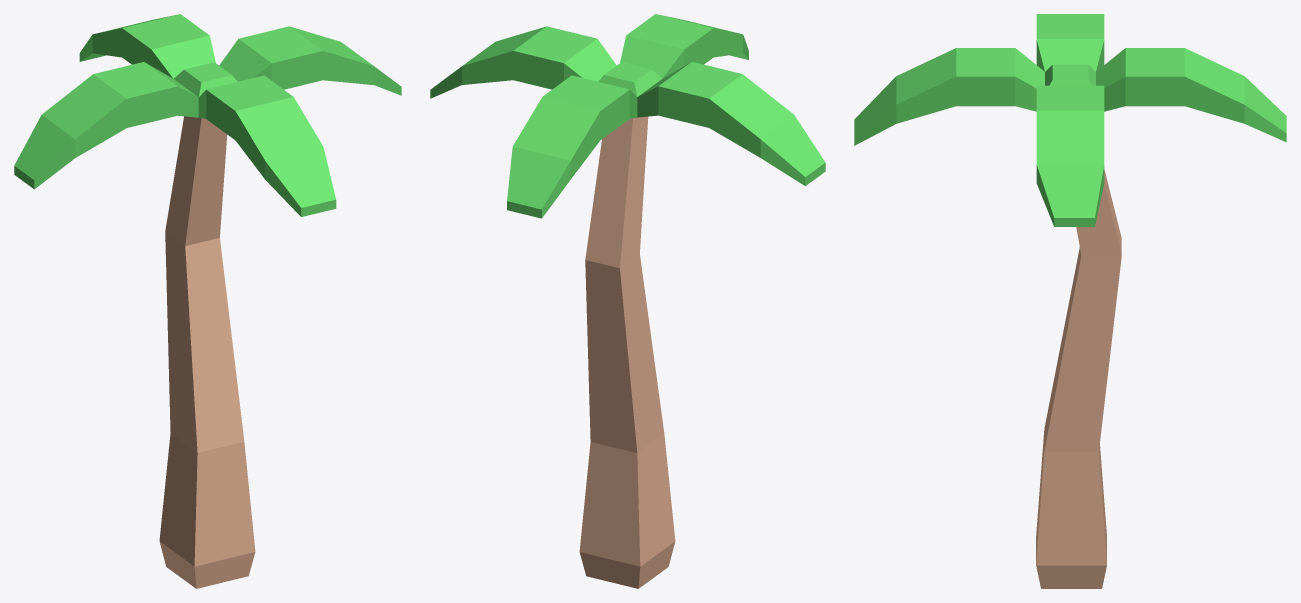
File: n_tree_palmTall.glb
3 renders of one model, left to right at view 1: azimuth 30°, elevation 25°; view 2: azimuth 150°, elevation 25°; view 3: azimuth 270°, elevation 25°, orthographic.
Visible parts, largest first — view 1: tree_palmTall; view 2: tree_palmTall; view 3: tree_palmTall.
Part boxes in pixels (left/top/right/bottom): tree_palmTall: left=14, top=14, right=401, bottom=588; tree_palmTall: left=430, top=14, right=825, bottom=588; tree_palmTall: left=854, top=14, right=1286, bottom=588.
Size of the model in its own units: 6.1 by 8 by 6.1.
